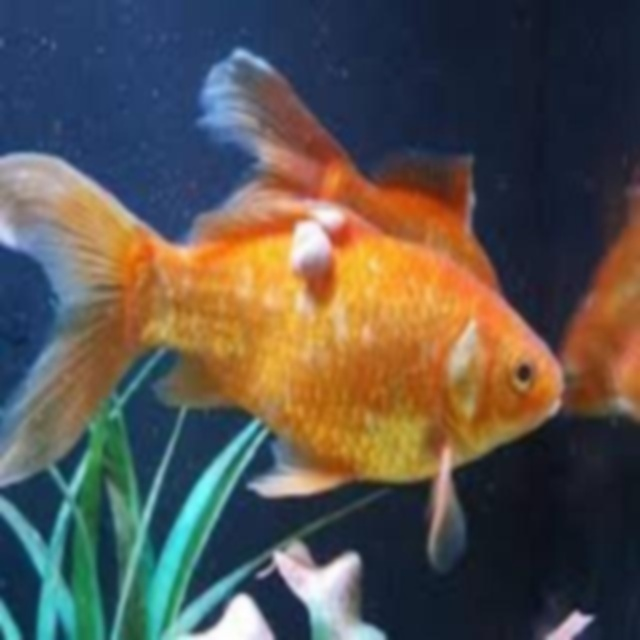EUS Disease: (0, 46, 576, 485), (272, 183, 391, 308)
